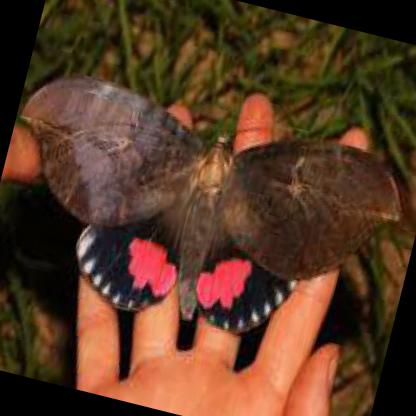fruit sucking moth: (23, 78, 404, 332)
